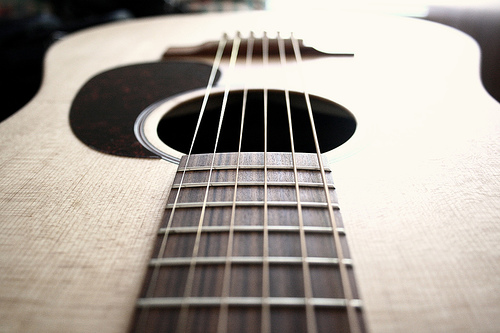guitar: (1, 6, 500, 333)
